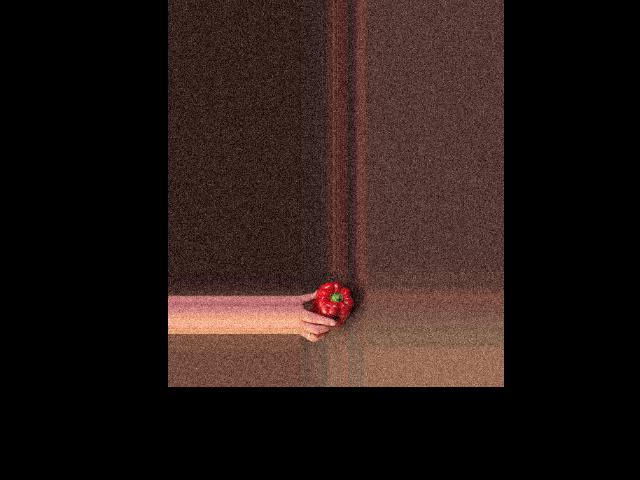bell_pepper: (313, 280, 354, 324)
